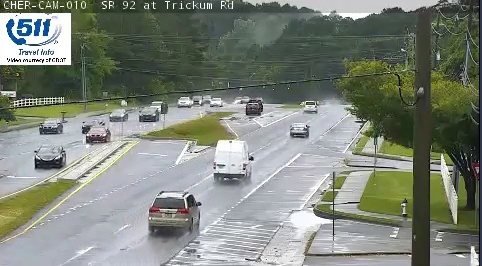car: (150, 192, 200, 226), (290, 123, 309, 135), (304, 100, 316, 112)
van: (213, 140, 250, 177)
